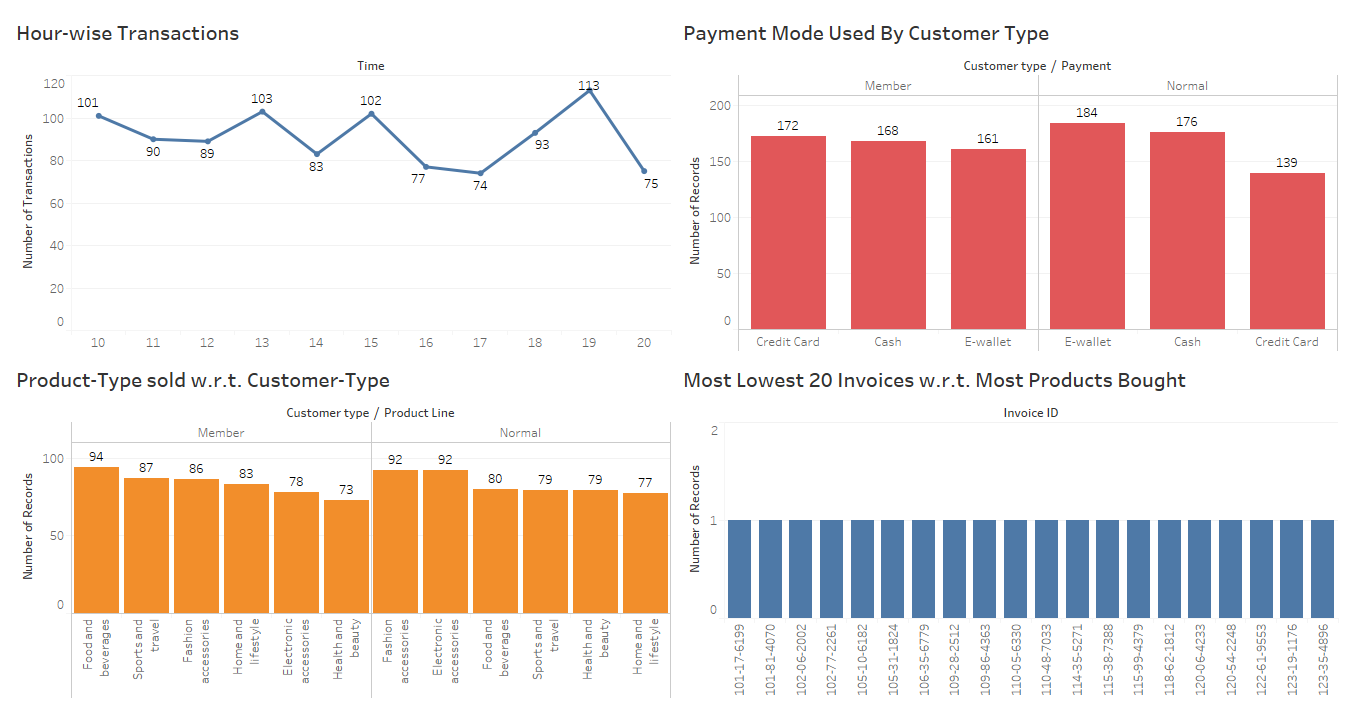

Layout of this report page (visuals, bound fields, positions):
{"tool":"tableau","page":{"name":"Dashboard 2","canvas":[1350,710],"ordinal":1},"visuals":[{"type":"worksheet","title":"Hour-wise Transactions ","mark":"Automatic","rows":["Number of Records"],"cols":["Time"],"box":[8,8,667,347]},{"type":"worksheet","title":"Payment Mode Used By Customer Type","mark":"Automatic","rows":["Number of Records"],"cols":["Customer type","Payment"],"box":[675,8,667,347]},{"type":"worksheet","title":"Product-Type sold w.r.t. Customer-Type","mark":"Automatic","rows":["Number of Records"],"cols":["Customer type","Product Line"],"box":[8,355,667,347]},{"type":"worksheet","title":"Most Lowest 20 Invoices w.r.t. Most Products Bought","mark":"Automatic","rows":["Number of Records"],"cols":["Invoice ID"],"box":[675,355,667,347]}]}

Visuals, with their boxes in screenshot pixels (x1, y1, x2, y2), scaled from the page's 1350x710 canvas onto the 1350x710 screenshot:
"Hour-wise Transactions " worksheet: (x1=8, y1=8, x2=675, y2=355)
"Payment Mode Used By Customer Type" worksheet: (x1=675, y1=8, x2=1342, y2=355)
"Product-Type sold w.r.t. Customer-Type" worksheet: (x1=8, y1=355, x2=675, y2=702)
"Most Lowest 20 Invoices w.r.t. Most Products Bought" worksheet: (x1=675, y1=355, x2=1342, y2=702)
